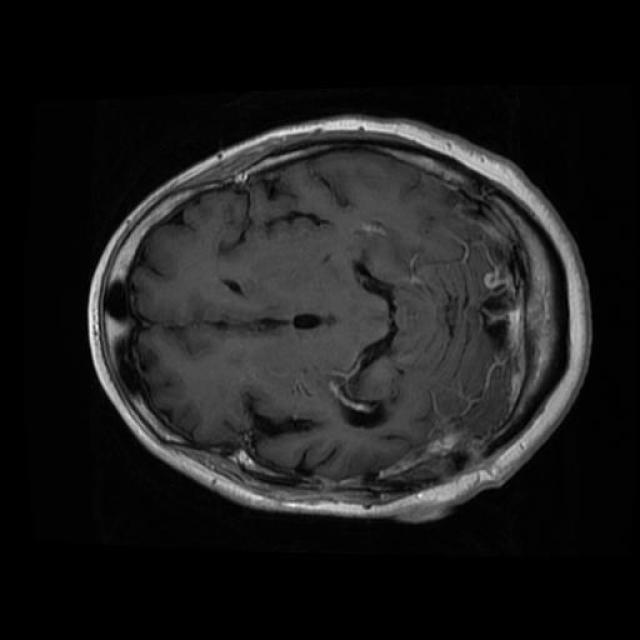Glioma: (365, 422, 488, 491), (104, 274, 155, 414)
